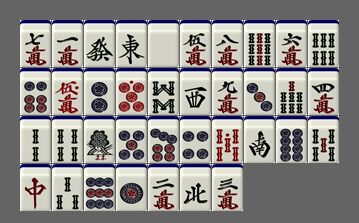0m: (52, 68, 83, 115)
0p: (116, 68, 147, 115)
0s: (212, 116, 243, 163)
1m: (52, 20, 83, 67)
1p: (116, 164, 147, 211)
1s: (84, 116, 115, 163)
1z: (116, 20, 147, 67)
2m: (148, 164, 179, 211)
2p: (84, 68, 115, 115)
2s: (20, 116, 51, 163)
2z: (244, 116, 275, 163)
3m: (212, 164, 243, 211)
3p: (244, 68, 275, 115)
3s: (52, 164, 83, 211)
3z: (180, 68, 211, 115)
4m: (308, 68, 339, 115)
4p: (180, 116, 211, 163)
4s: (52, 116, 83, 163)
4z: (180, 164, 211, 211)
5m: (180, 20, 211, 67)
5p: (116, 116, 147, 163)
5s: (308, 116, 339, 163)
5z: (148, 20, 179, 67)
6m: (276, 20, 307, 67)
6p: (20, 68, 51, 115)
6s: (308, 20, 339, 67)
6z: (84, 20, 115, 67)
7m: (20, 20, 51, 67)
7p: (148, 116, 179, 163)
7s: (276, 68, 307, 115)
7z: (20, 164, 51, 211)
8m: (212, 20, 243, 67)
8p: (276, 116, 307, 163)
8s: (148, 68, 179, 115)
9m: (212, 68, 243, 115)
9p: (84, 164, 115, 211)
9s: (244, 20, 275, 67)
